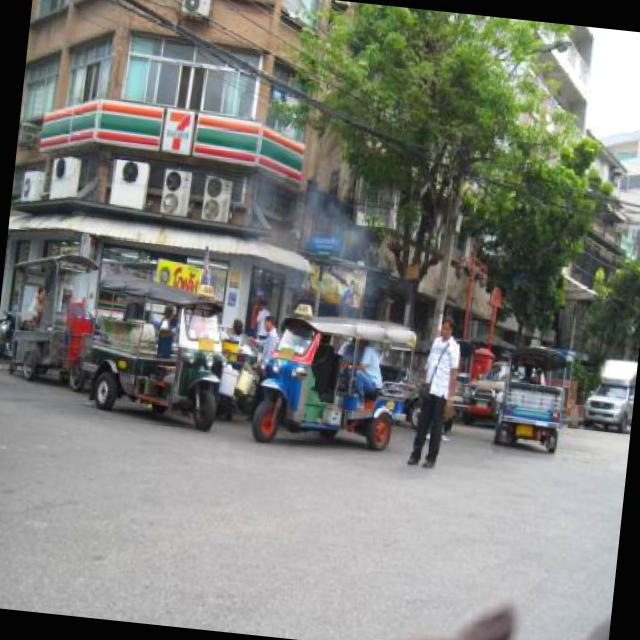Person: (415, 308, 474, 479), (334, 334, 388, 396), (249, 311, 278, 368), (248, 298, 270, 340), (32, 286, 45, 324), (229, 317, 248, 343)
